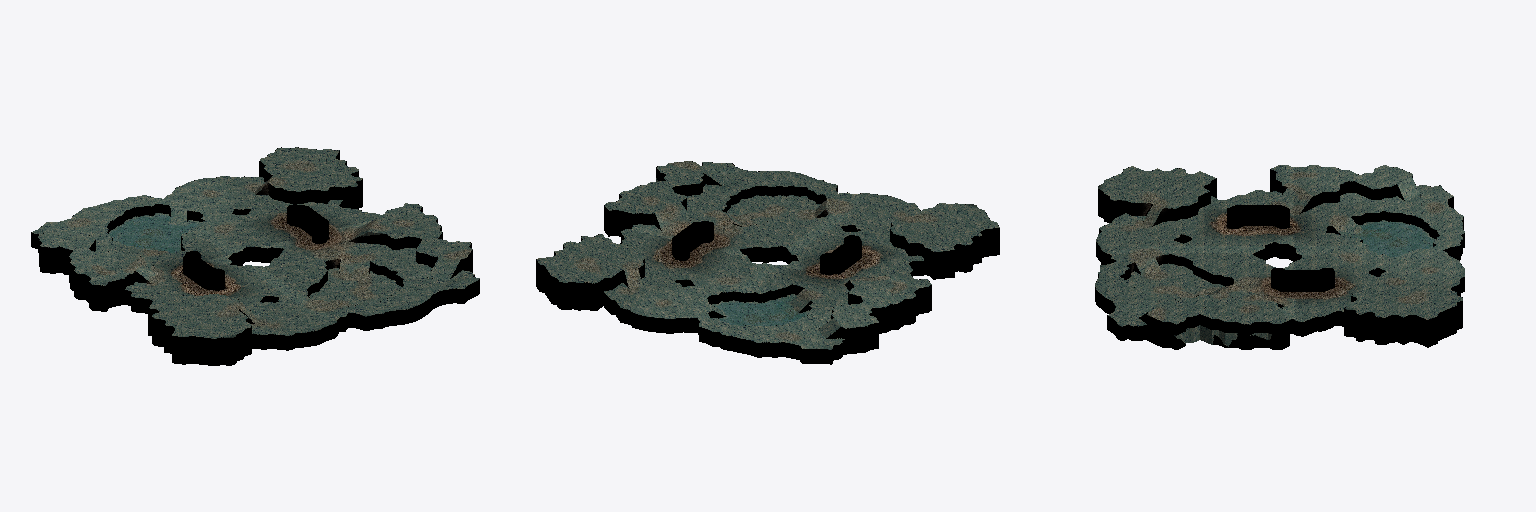
The picture shows the model from 3 angles: view 1: azimuth 30°, elevation 25°; view 2: azimuth 150°, elevation 25°; view 3: azimuth 270°, elevation 25°; orthographic projection.
Visible parts, largest first — view 1: Plane.008; view 2: Plane.008; view 3: Plane.008.
Part boxes in pixels (x1,y1,x2,y2): Plane.008: (31, 147, 479, 365); Plane.008: (536, 161, 999, 364); Plane.008: (1095, 165, 1464, 349).
Size of the model in its own units: 673 by 62.21 by 659.
Materials: 2 (1 with a texture image).